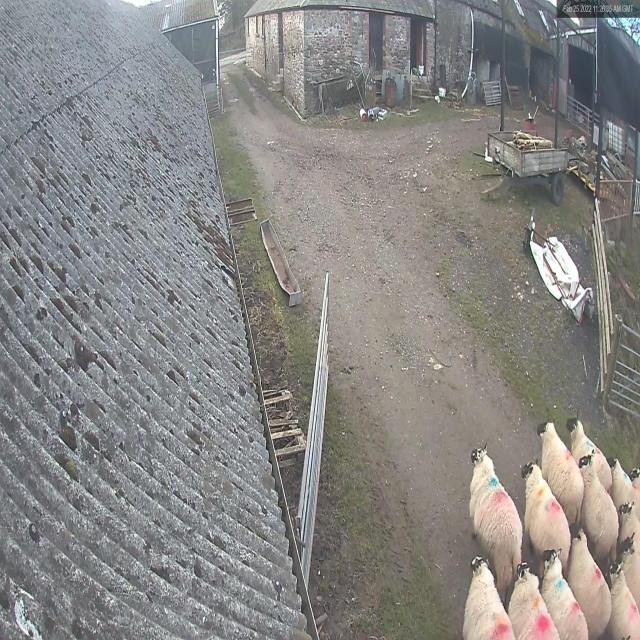Sheep: (468, 445, 524, 593), (520, 457, 570, 575), (567, 524, 612, 640), (575, 448, 619, 563), (537, 417, 583, 525), (540, 546, 588, 640), (463, 556, 515, 640), (507, 560, 559, 640), (565, 411, 612, 492), (608, 562, 640, 640), (617, 529, 640, 614), (608, 453, 634, 509), (618, 497, 640, 538)
